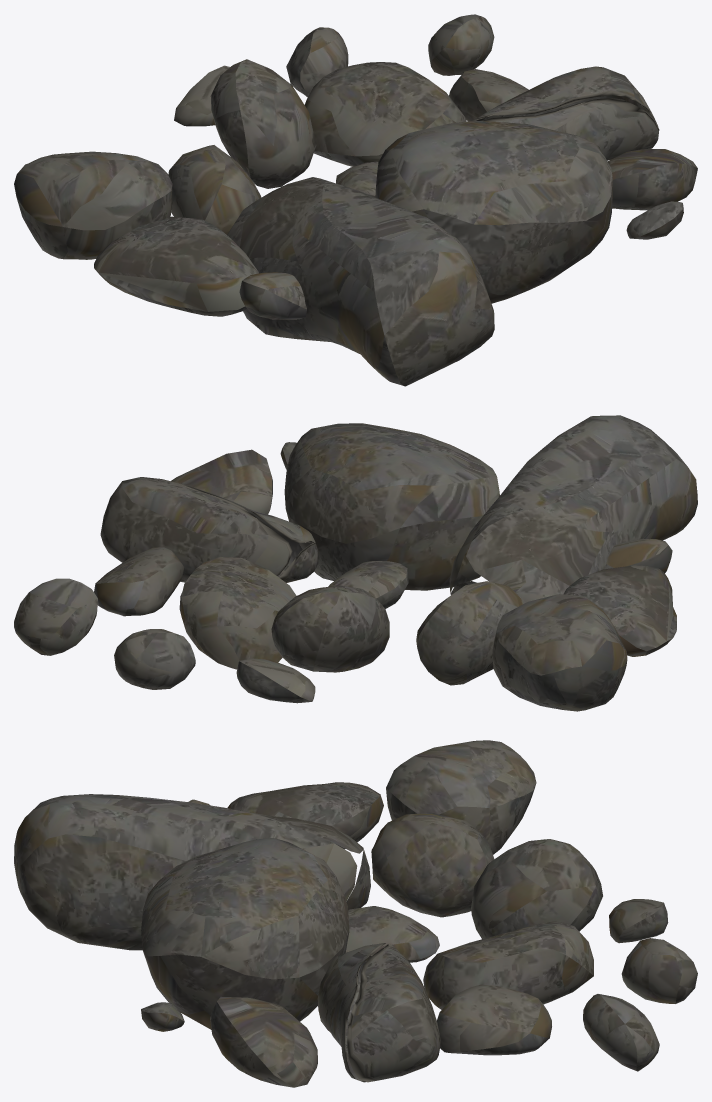
The model's file is rocks.glb.
3 renders of one model, top to bottom at view 1: azimuth 30°, elevation 25°; view 2: azimuth 150°, elevation 25°; view 3: azimuth 270°, elevation 25°, orthographic. The views are drawn at different scales.
Visible parts, largest first — view 1: SM_DebrisSmall_E.030; view 2: SM_DebrisSmall_E.030; view 3: SM_DebrisSmall_E.030.
Boxes of the visible parts, box(x1,y1,x2,y2) form: SM_DebrisSmall_E.030: box(14, 14, 697, 386); SM_DebrisSmall_E.030: box(14, 415, 697, 711); SM_DebrisSmall_E.030: box(14, 740, 697, 1087).
Size of the model in its own units: 0.1429 by 0.0354 by 0.1452.
Materials: 1 (1 with a texture image).
